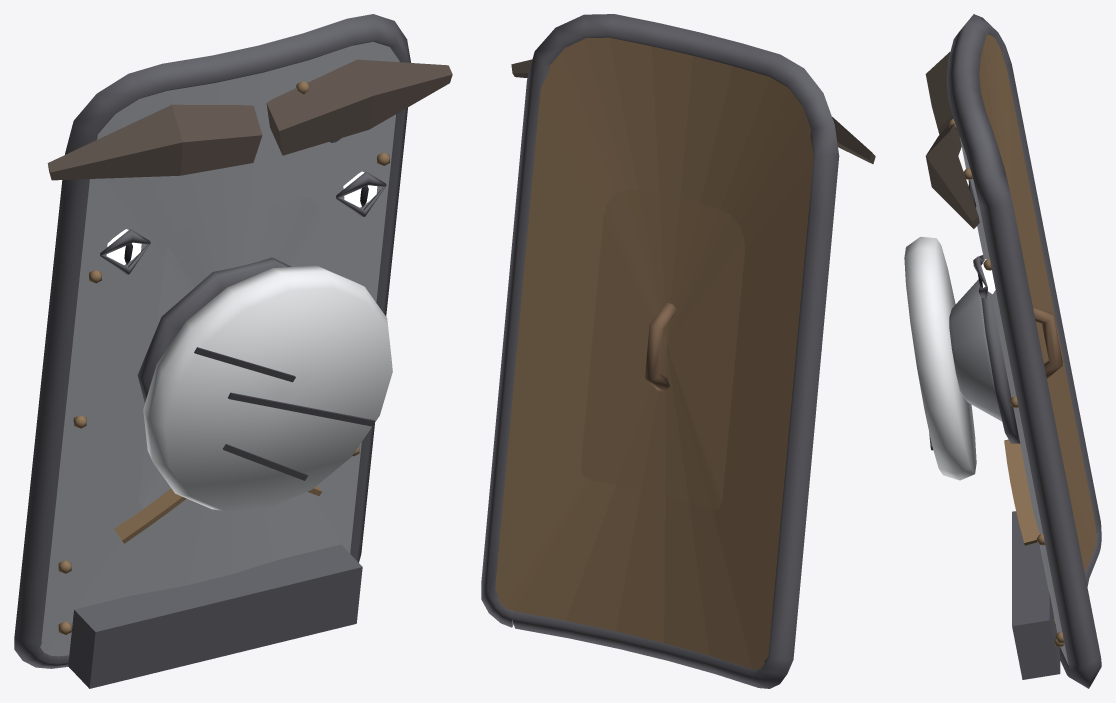
The model's file is shield-last-word.glb.
The picture shows the model from 3 angles, left to right: view 1: azimuth 30°, elevation 25°; view 2: azimuth 150°, elevation 25°; view 3: azimuth 270°, elevation 25°; orthographic projection. The views are drawn at different scales.
Visible parts, largest first — view 1: shield-last-word; view 2: shield-last-word; view 3: shield-last-word.
Part boxes in pixels (x1,y1,x2,y2): shield-last-word: [14, 14, 452, 688]; shield-last-word: [481, 14, 875, 688]; shield-last-word: [904, 14, 1101, 688].
Bounding box in the file's own units: 1.15 × 1.77 × 0.5563.
